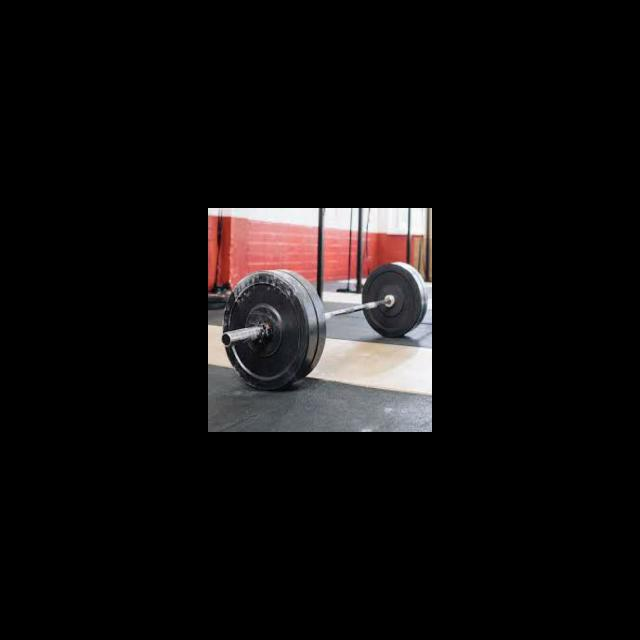barbell: (216, 269, 313, 393)
